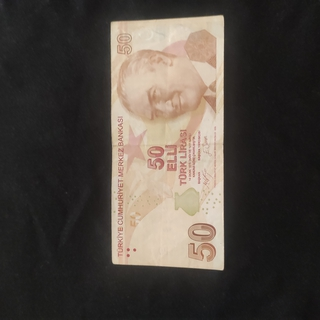50TLFront: (110, 14, 225, 271)
